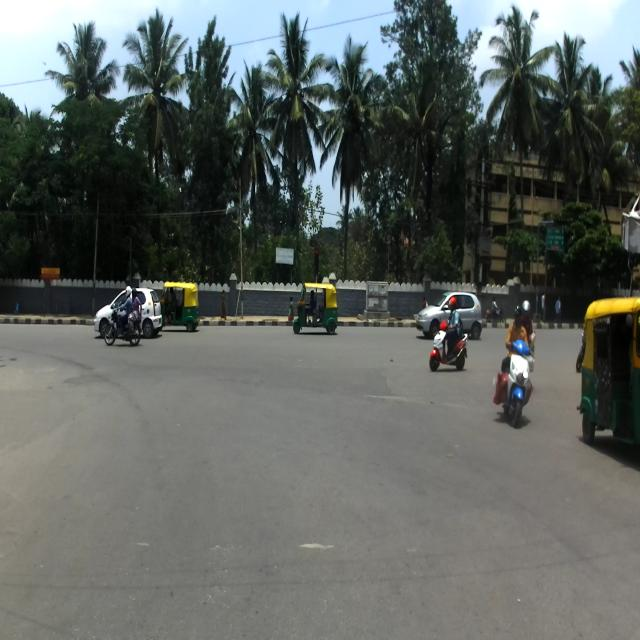auto ahead at: (580, 293, 640, 452)
motorcycle ahead at: (495, 336, 538, 424), (428, 320, 471, 382)
